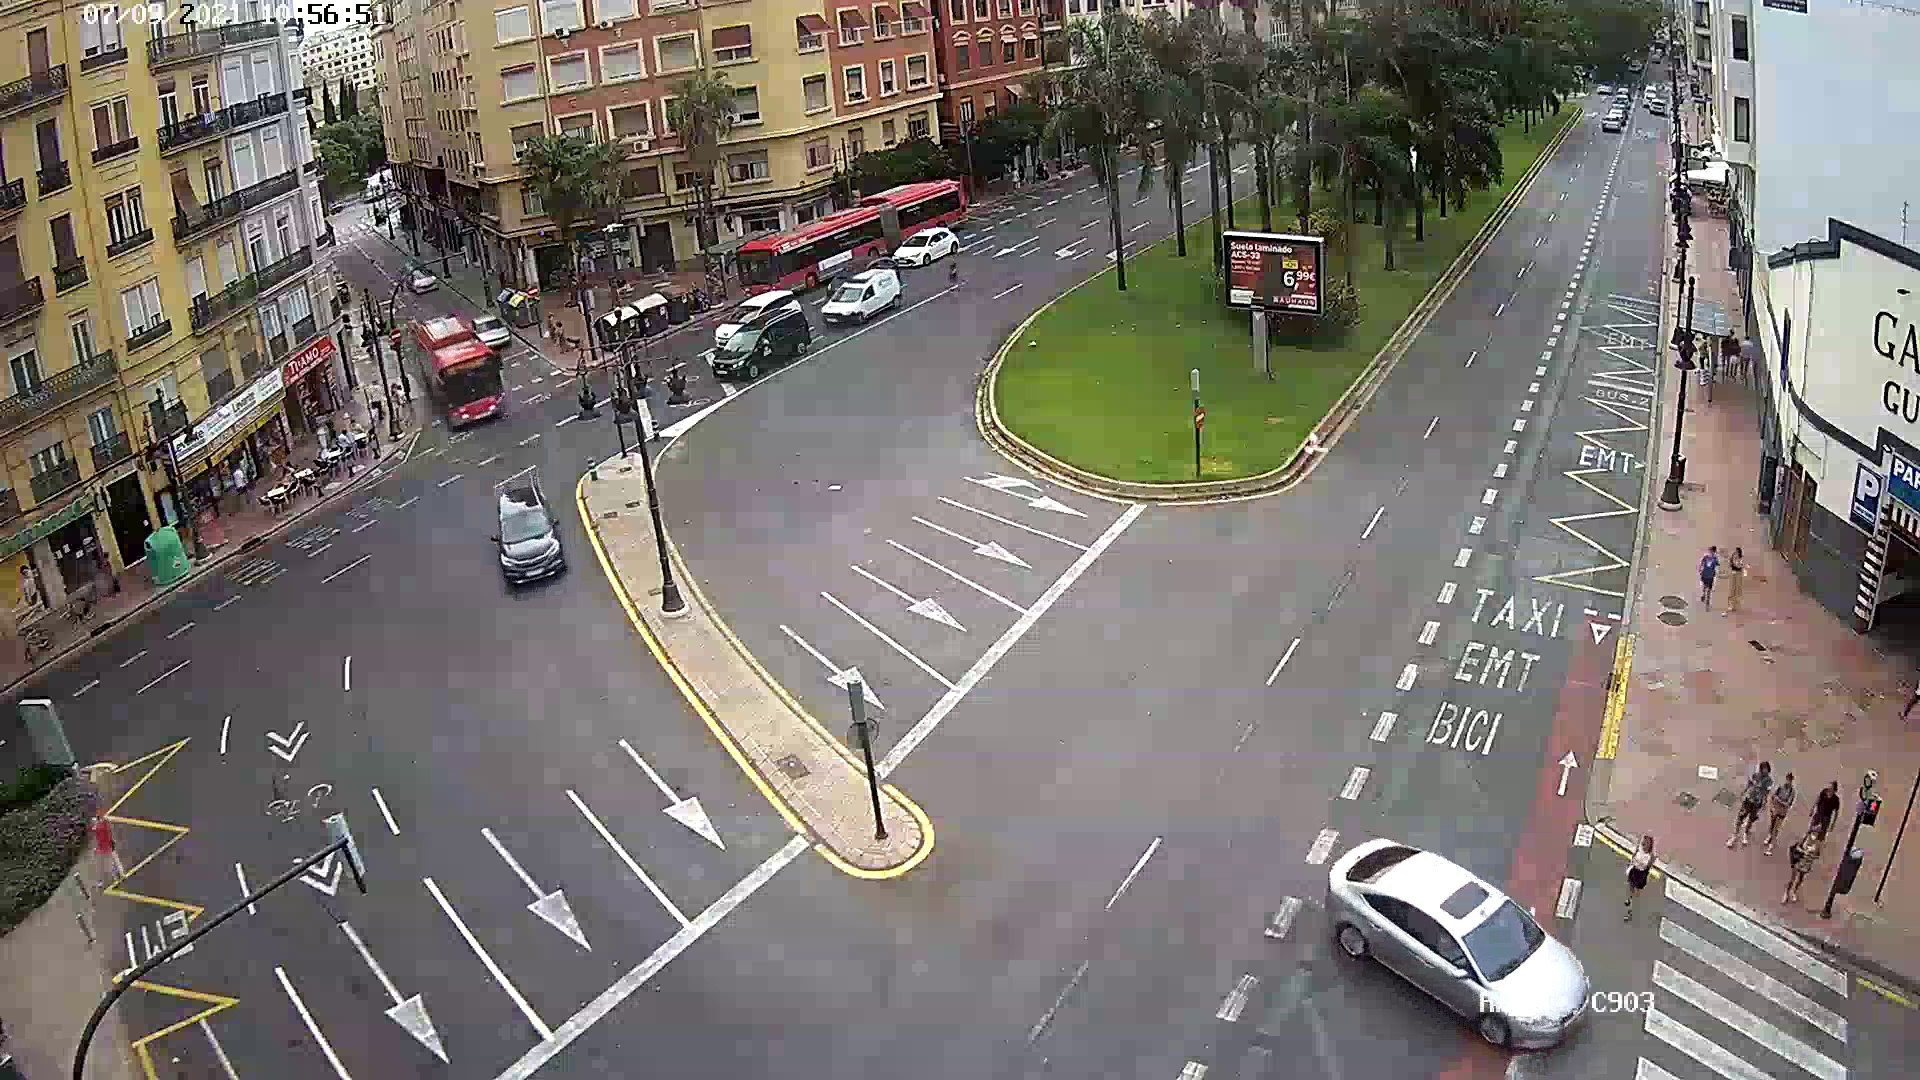Cars: (1304, 829, 1626, 1048), (488, 473, 575, 595), (698, 310, 803, 381), (816, 274, 901, 328)
